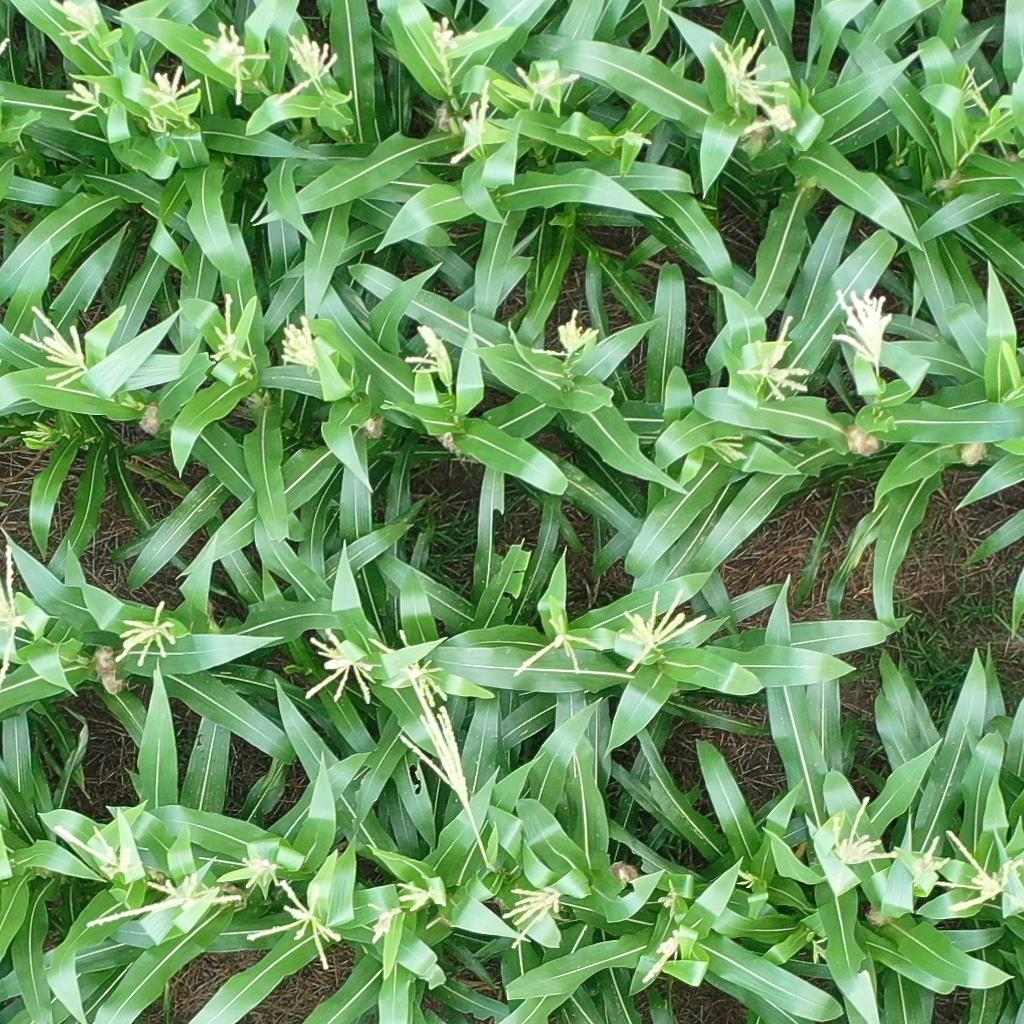Tassel: (395, 670, 476, 810), (243, 879, 344, 969), (83, 875, 245, 930), (617, 589, 708, 678), (729, 310, 817, 401), (936, 826, 1024, 913), (299, 625, 382, 707), (370, 626, 451, 708), (707, 25, 788, 104), (513, 612, 605, 679), (17, 305, 90, 389), (204, 21, 271, 110), (265, 33, 339, 107), (109, 599, 183, 672), (829, 286, 892, 370), (53, 818, 137, 879), (522, 303, 603, 362), (443, 78, 496, 166), (833, 797, 897, 865), (1, 546, 31, 690), (508, 883, 567, 950), (203, 292, 252, 367), (514, 62, 581, 107), (141, 60, 199, 111), (640, 928, 690, 985), (43, 1, 109, 42), (403, 324, 452, 377), (948, 58, 995, 110), (743, 90, 793, 136), (278, 315, 322, 367), (910, 833, 950, 885), (428, 14, 478, 53), (63, 79, 107, 123), (705, 430, 748, 471), (240, 855, 281, 889), (368, 903, 400, 946), (396, 876, 435, 911), (19, 419, 56, 447), (657, 881, 682, 914), (618, 126, 651, 150), (142, 110, 172, 133), (810, 933, 829, 965), (735, 867, 759, 888)
